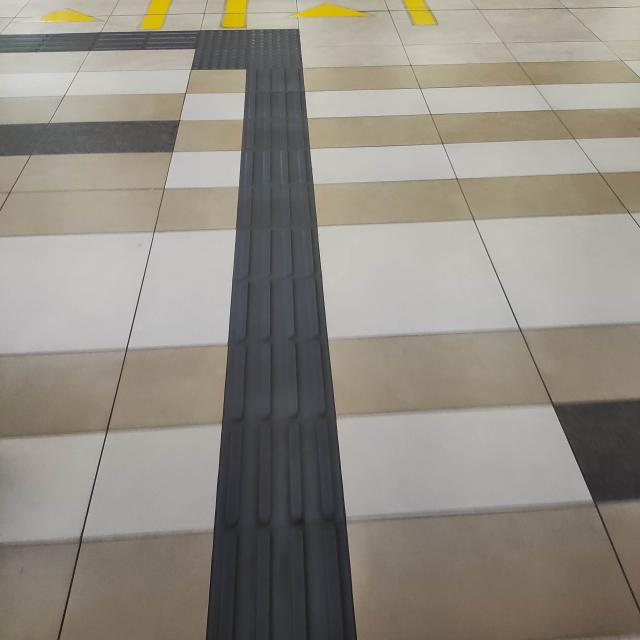kiri: (118, 15, 323, 89)
